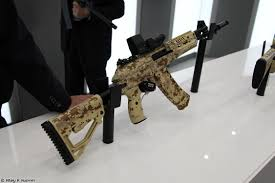Gun: (99, 25, 215, 104)
